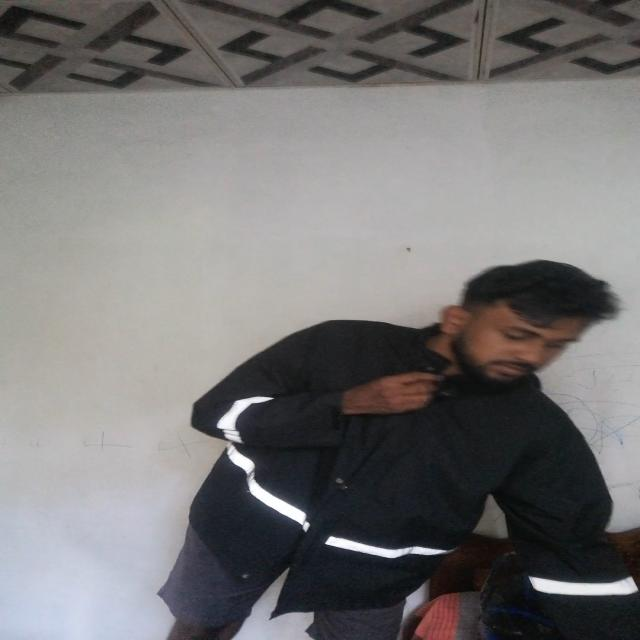Jacket_Wearer: (187, 308, 620, 602)
Person: (178, 241, 640, 640)
